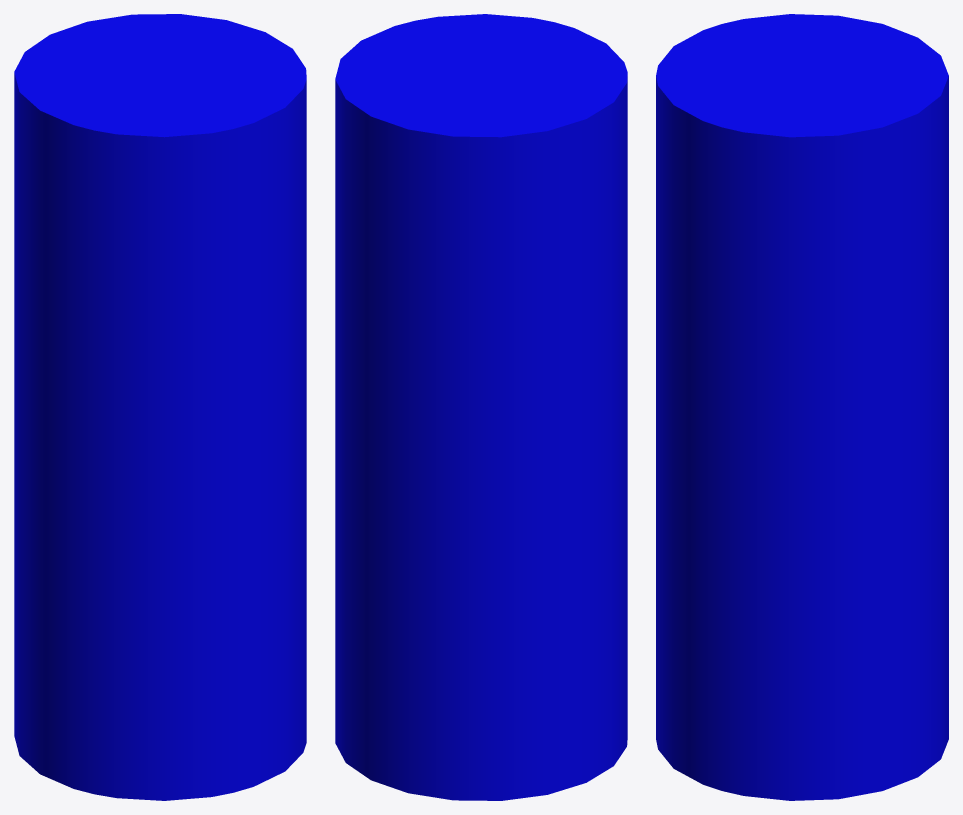
The model's file is Pin.obj.
3 views of the same model, side by side, from view 1: azimuth 30°, elevation 25°; view 2: azimuth 150°, elevation 25°; view 3: azimuth 270°, elevation 25° (orthographic).
Parts seen in each view (by area): view 1: mesh 1 Pin; view 2: mesh 1 Pin; view 3: mesh 1 Pin.
Boxes of the visible parts, x1=… form: mesh 1 Pin: x1=14, y1=14, x2=306, y2=800; mesh 1 Pin: x1=335, y1=14, x2=627, y2=800; mesh 1 Pin: x1=656, y1=14, x2=948, y2=800.
Size of the model in its own units: 0.00498 by 0.0125 by 0.005.
